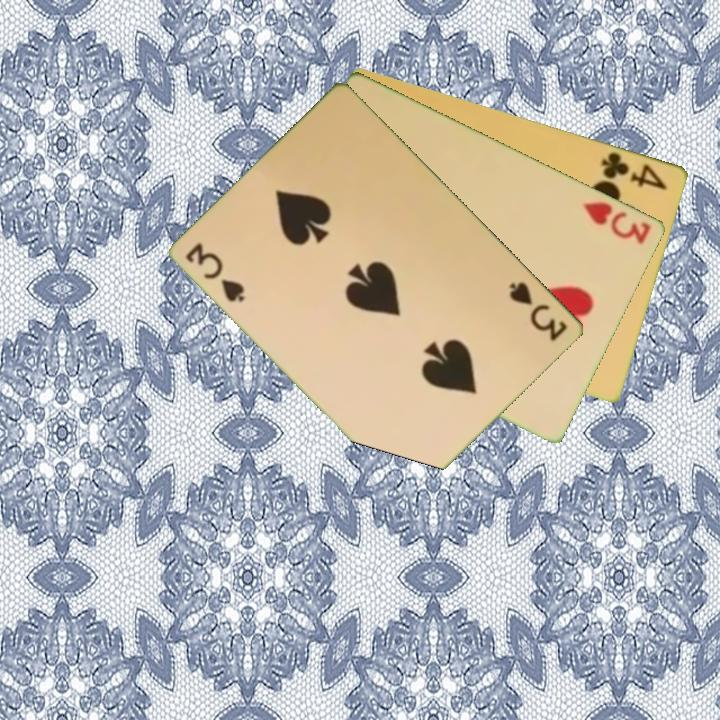3h: (579, 198, 654, 247)
3s: (182, 239, 249, 305), (506, 278, 571, 344)
4c: (598, 147, 670, 193)
